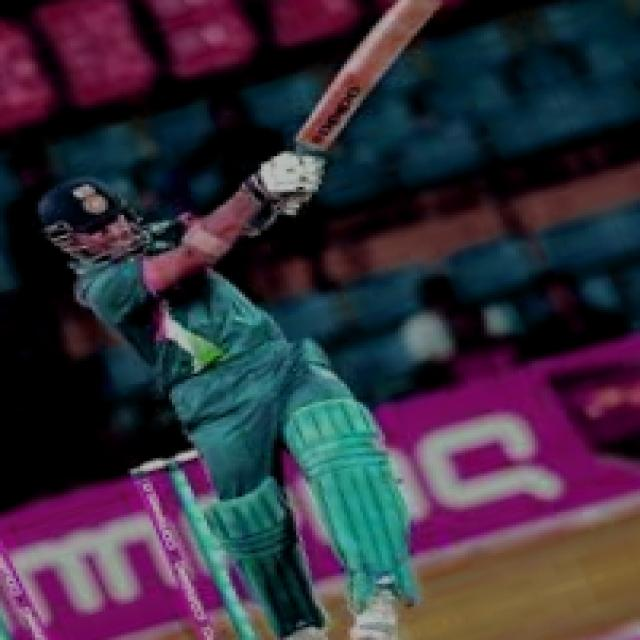toe: (384, 0, 435, 37)
